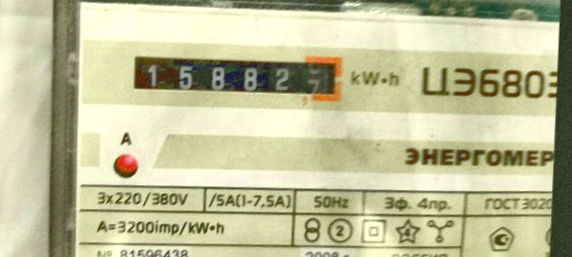1: (145, 61, 160, 90)
2: (272, 67, 290, 94)
5: (176, 64, 194, 95)
7: (305, 77, 319, 95)
8: (208, 65, 225, 94), (241, 66, 258, 94)
screen: (121, 41, 349, 111)
